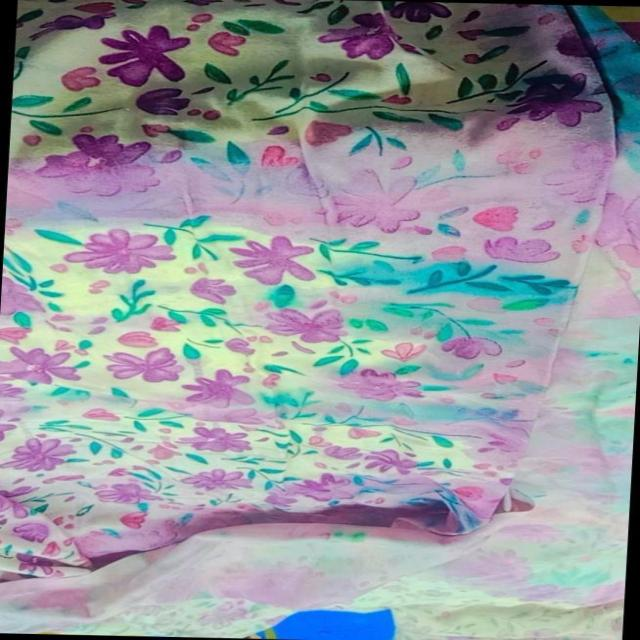baekra: (3, 119, 640, 273), (0, 368, 636, 457), (282, 262, 640, 390), (460, 3, 640, 137)
